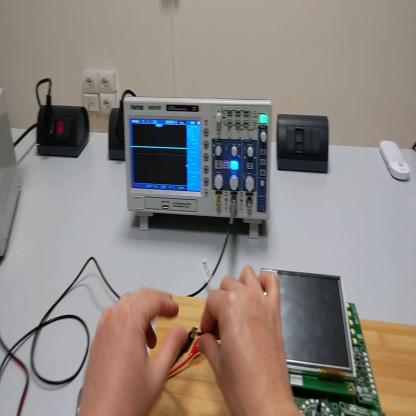hand: (197, 266, 294, 415), (79, 285, 185, 416)
low voltage board: (198, 267, 382, 411)
oscilloscope: (123, 98, 273, 239)
power supply: (3, 89, 22, 266)
socket: (36, 102, 89, 162), (109, 108, 125, 160)
working area: (149, 297, 415, 414)
